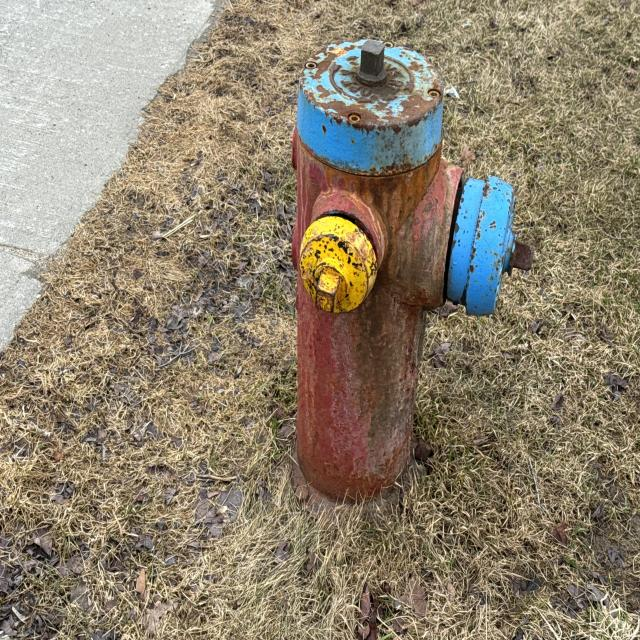Fire hydrant: (285, 38, 536, 528)
